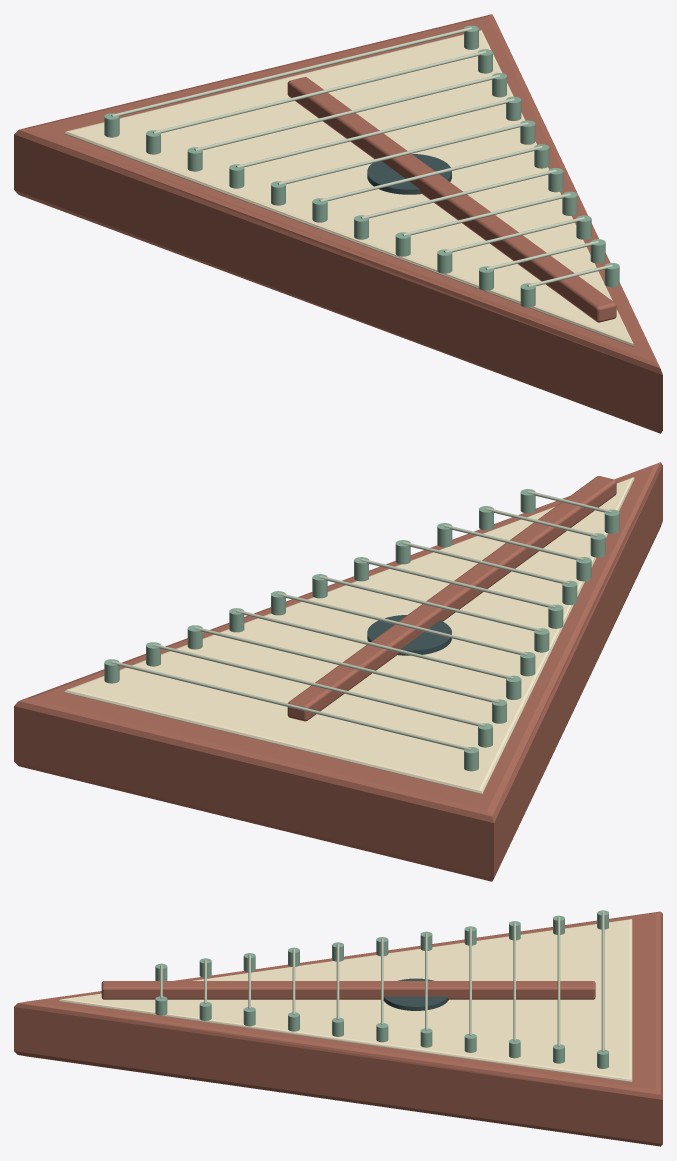
File: enchanted-harp-garden-and-music-sanctuary-bowed-psalte-340bd1b5__30412.glb
The picture shows the model from 3 angles, top to bottom: view 1: azimuth 30°, elevation 25°; view 2: azimuth 150°, elevation 25°; view 3: azimuth 270°, elevation 25°; orthographic projection. The views are drawn at different scales.
Visible parts, largest first — view 1: bowed-psaltery; view 2: bowed-psaltery; view 3: bowed-psaltery.
Part boxes in pixels (x1,y1,x2,y2): bowed-psaltery: (14, 14, 662, 433); bowed-psaltery: (14, 462, 662, 881); bowed-psaltery: (14, 910, 662, 1146).
Size of the model in its own units: 0.5875 by 0.1108 by 0.8669.
